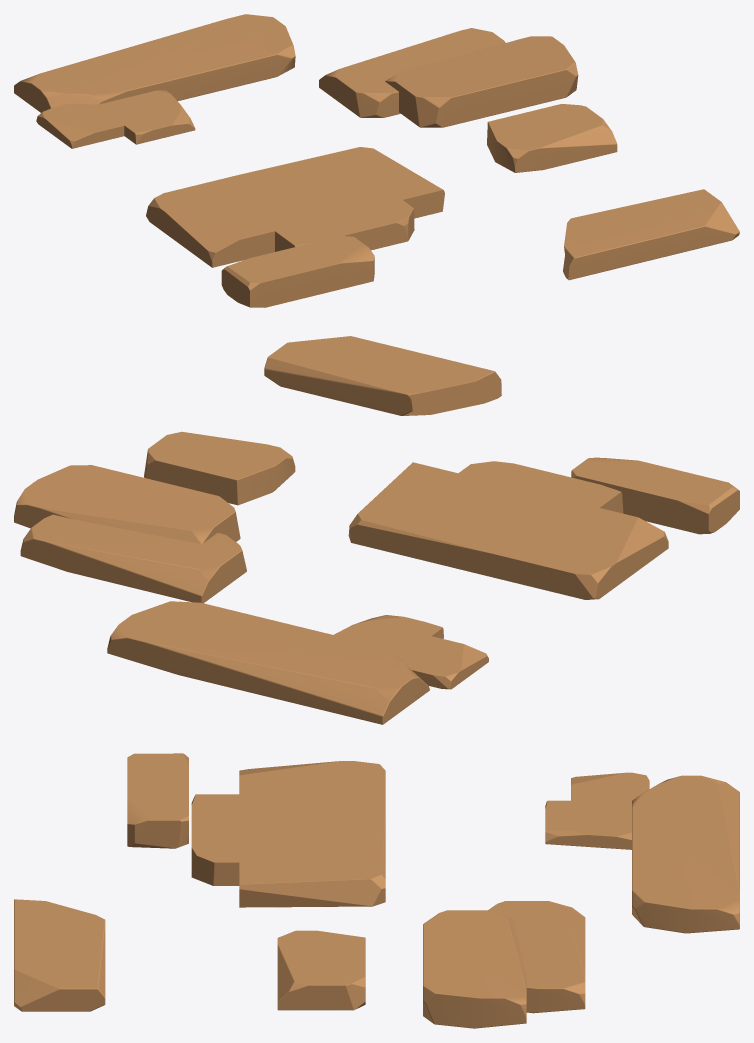
The model's file is Rock path type2.fbx.
3 views of the same model, one above another, from view 1: azimuth 30°, elevation 25°; view 2: azimuth 150°, elevation 25°; view 3: azimuth 270°, elevation 25° (orthographic). The views are drawn at different scales.
Visible parts, largest first — view 1: Cube.114, Cube.118, Cube.116, Cube.112, Cube.113, Cube.115, Cube.117, Cube.119; view 2: Cube.114, Cube.118, Cube.112, Cube.117, Cube.116, Cube.115, Cube.113, Cube.119; view 3: Cube.114, Cube.118, Cube.116, Cube.112, Cube.117, Cube.115, Cube.119, Cube.113.
Boxes of the visible parts, left/top/right/bottom form: Cube.114: left=146, top=147, right=444, bottom=267; Cube.118: left=14, top=14, right=295, bottom=112; Cube.116: left=385, top=36, right=578, bottom=127; Cube.112: left=563, top=189, right=739, bottom=280; Cube.113: left=221, top=235, right=374, bottom=307; Cube.115: left=487, top=104, right=617, bottom=172; Cube.117: left=319, top=28, right=505, bottom=117; Cube.119: left=36, top=90, right=195, bottom=148; Cube.114: left=348, top=461, right=668, bottom=599; Cube.118: left=107, top=601, right=429, bottom=724; Cube.112: left=264, top=336, right=501, bottom=415; Cube.117: left=20, top=514, right=246, bottom=603; Cube.116: left=14, top=465, right=240, bottom=543; Cube.115: left=144, top=431, right=295, bottom=505; Cube.113: left=571, top=457, right=739, bottom=534; Cube.119: left=334, top=615, right=488, bottom=689; Cube.114: left=191, top=761, right=385, bottom=907; Cube.118: left=632, top=775, right=739, bottom=933; Cube.116: left=423, top=910, right=526, bottom=1028; Cube.112: left=14, top=899, right=105, bottom=1011; Cube.117: left=488, top=901, right=585, bottom=1013; Cube.115: left=277, top=930, right=365, bottom=1010; Cube.119: left=545, top=772, right=649, bottom=849; Cube.113: left=127, top=753, right=188, bottom=848.
Size of the model in its own units: 1375 by 91.44 by 1661.
